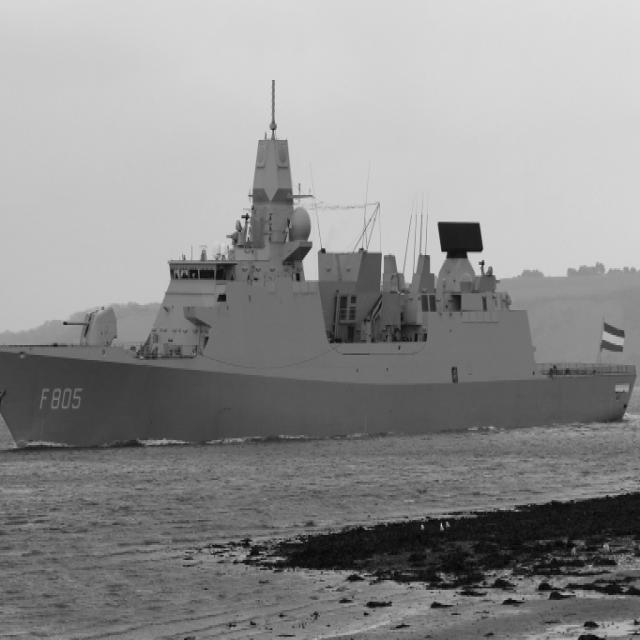Fragata: (1, 65, 640, 460)
